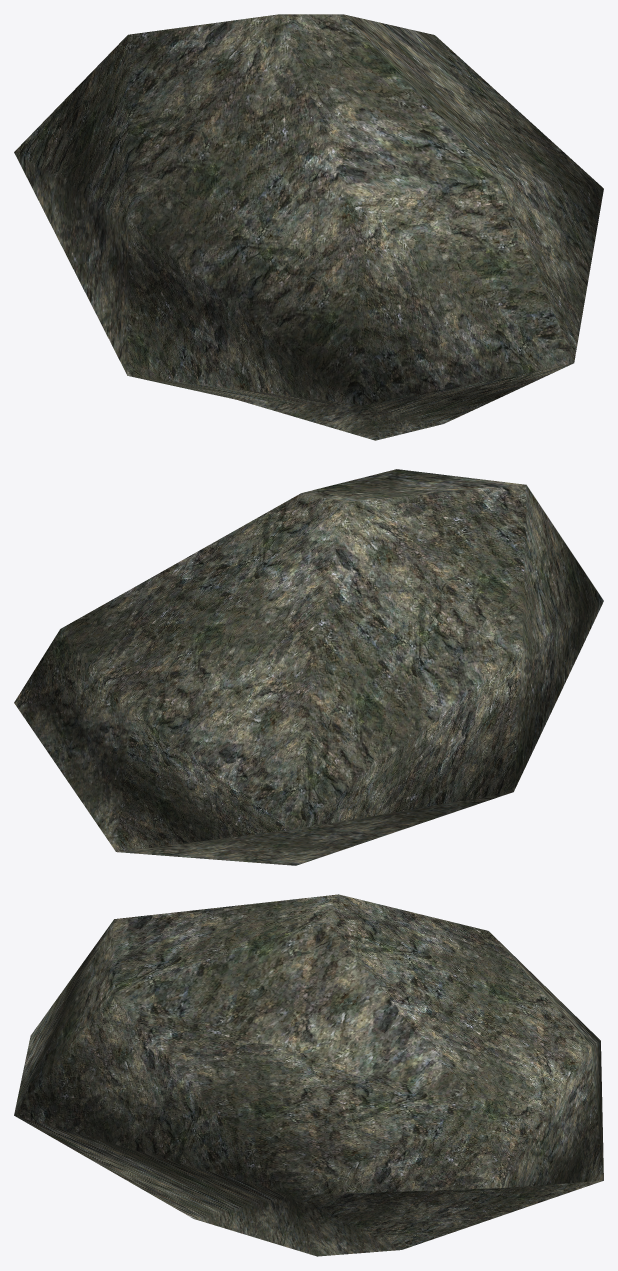
Rendered from mtns_rock_grey_a12_l2.fbx.
3 views of the same model, one above another, from view 1: azimuth 30°, elevation 25°; view 2: azimuth 150°, elevation 25°; view 3: azimuth 270°, elevation 25° (orthographic). The views are drawn at different scales.
Parts seen in each view (by area): view 1: mesh_node; view 2: mesh_node; view 3: mesh_node.
Part boxes in pixels (box(x1,y1,x2,y2)): mesh_node: box(14, 14, 603, 440); mesh_node: box(14, 469, 603, 865); mesh_node: box(14, 894, 603, 1256).
Bounding box in the file's own units: 1.56 × 1.15 × 2.07.
Materials: 1 (1 with a texture image).
